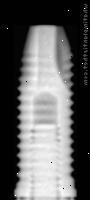Anthogyr: (14, 25, 77, 200)
